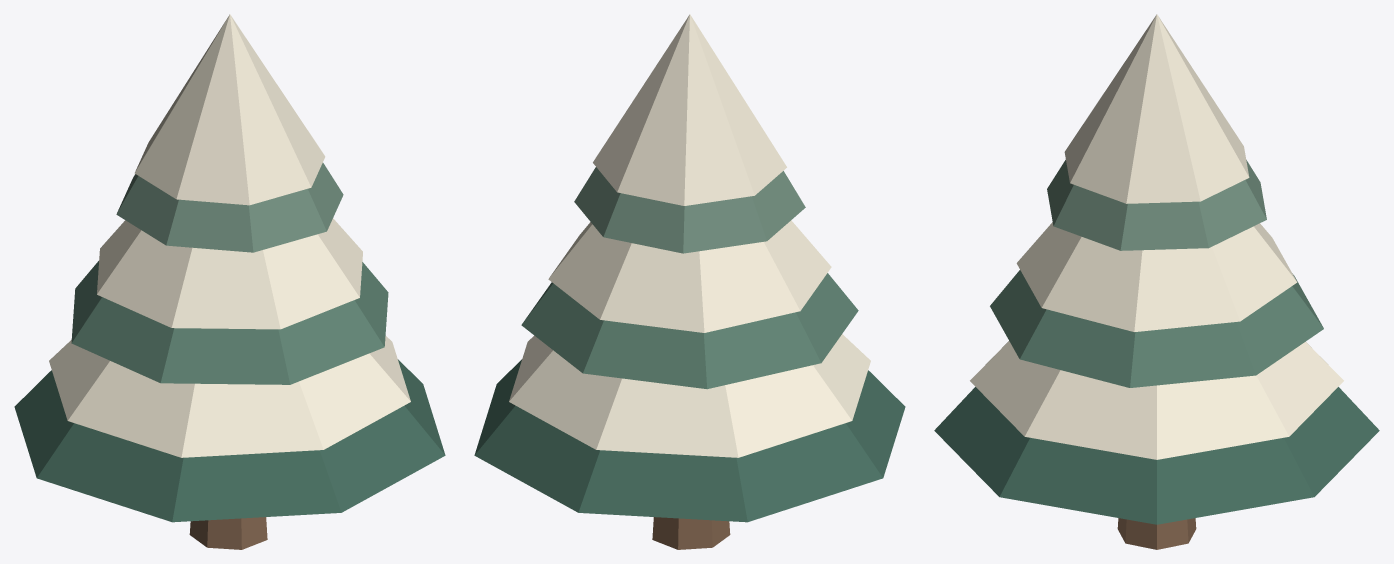
The model's file is snow-fir.glb.
3 renders of one model, left to right at view 1: azimuth 30°, elevation 25°; view 2: azimuth 150°, elevation 25°; view 3: azimuth 270°, elevation 25°, orthographic.
Parts seen in each view (by area): view 1: snow-fir; view 2: snow-fir; view 3: snow-fir.
Part boxes in pixels (box(x1,y1,x2,y2)): snow-fir: box(14, 14, 445, 549); snow-fir: box(474, 14, 905, 549); snow-fir: box(934, 14, 1379, 549).
Size of the model in its own units: 2.1 by 2.7 by 2.1.
